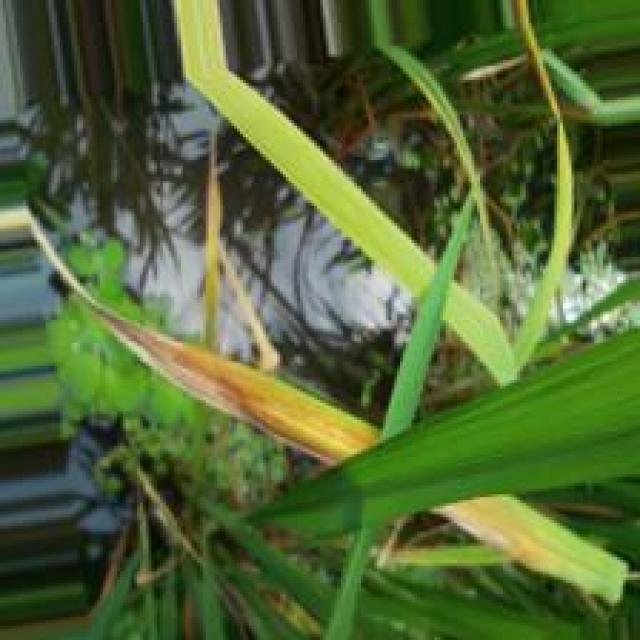Leaf_Scald: (34, 217, 342, 462), (434, 500, 542, 569)
